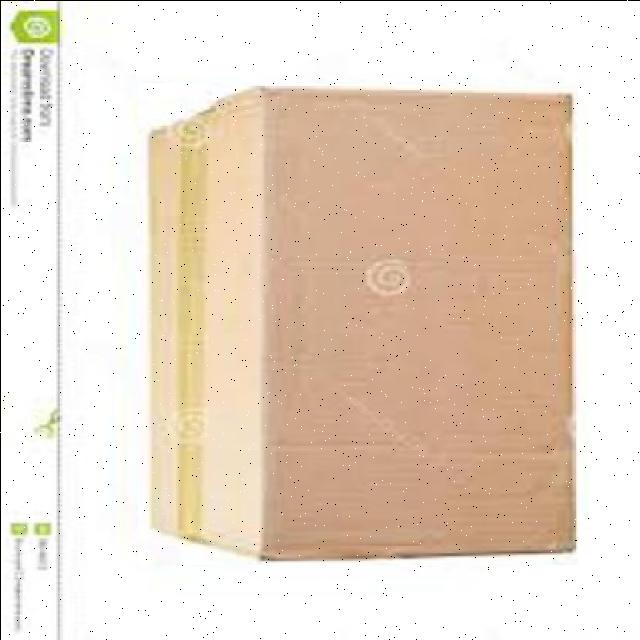normal: (137, 81, 577, 564)
